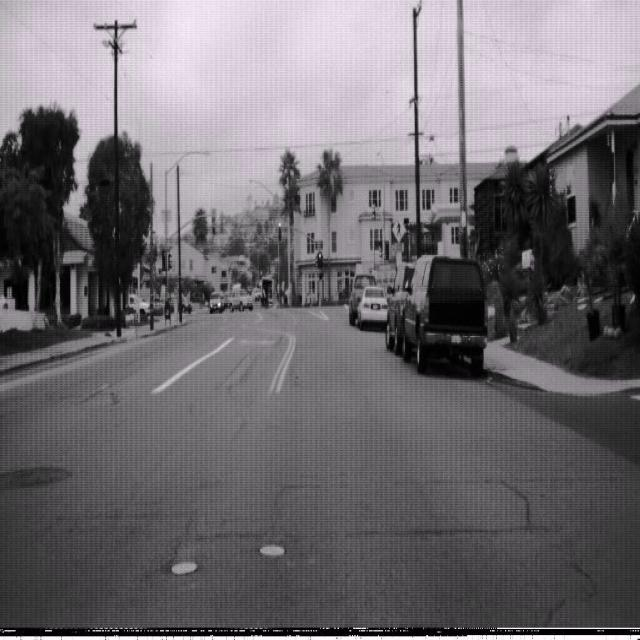pedestrianCrossing: (391, 213, 407, 244)
